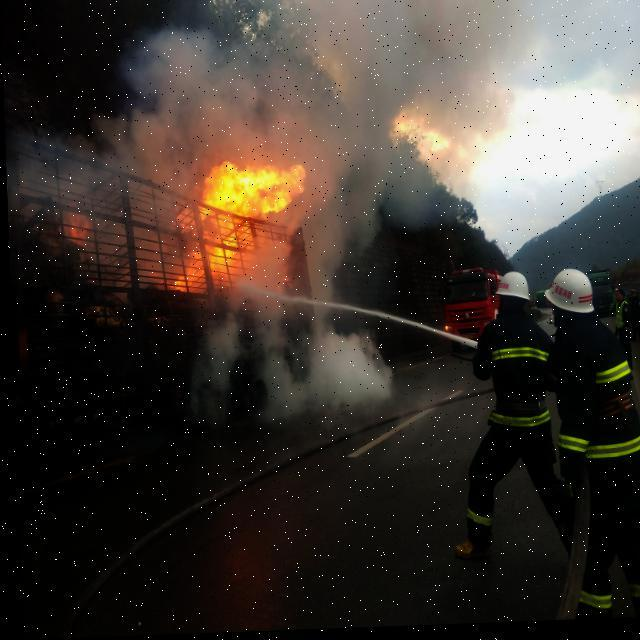Fire: (168, 161, 308, 295)
